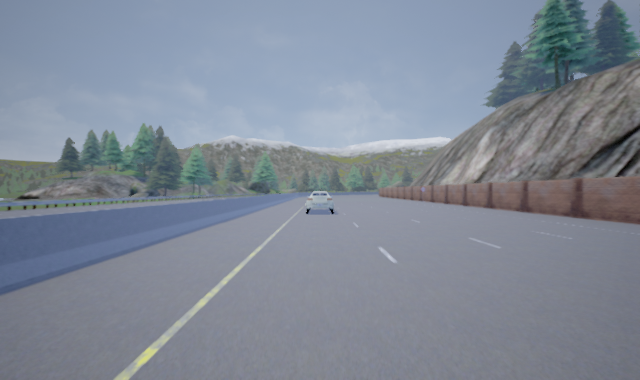vehicle: (305, 191, 334, 214)
